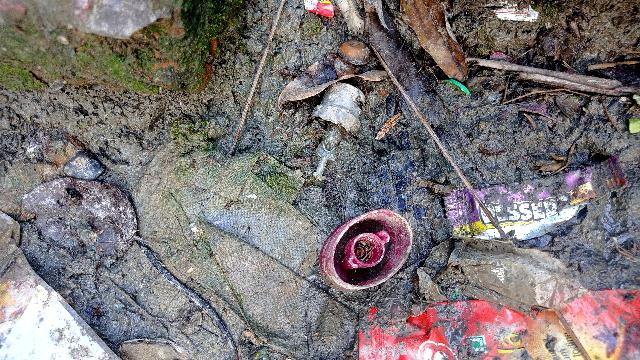hardplastic: (321, 203, 415, 292)
